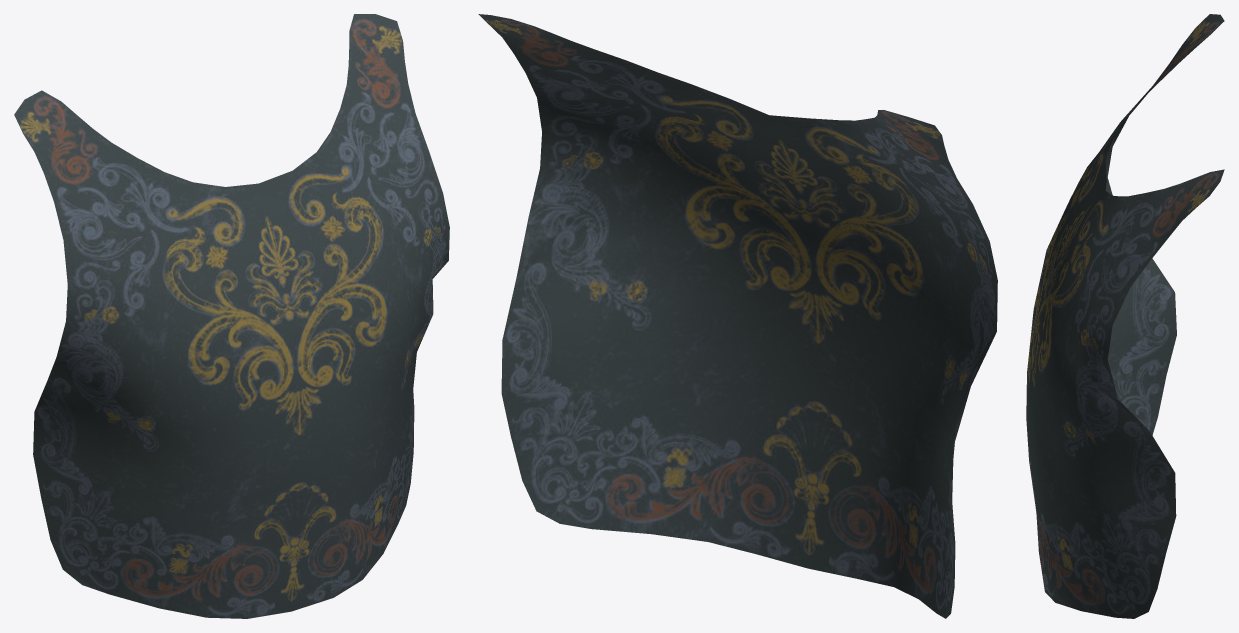
File: chest_plate-6376ad0c8654.glb
The picture shows the model from 3 angles, left to right: view 1: azimuth 30°, elevation 25°; view 2: azimuth 150°, elevation 25°; view 3: azimuth 270°, elevation 25°; orthographic projection. The views are drawn at different scales.
Visible parts, largest first — view 1: Group23285; view 2: Group23285; view 3: Group23285.
Part boxes in pixels (<box>): Group23285: <box>14,14,449,618</box>; Group23285: <box>478,14,997,618</box>; Group23285: <box>1026,14,1224,618</box>.
Size of the model in its own units: 48.81 by 58.36 by 21.93.
Materials: 1 (1 with a texture image).
